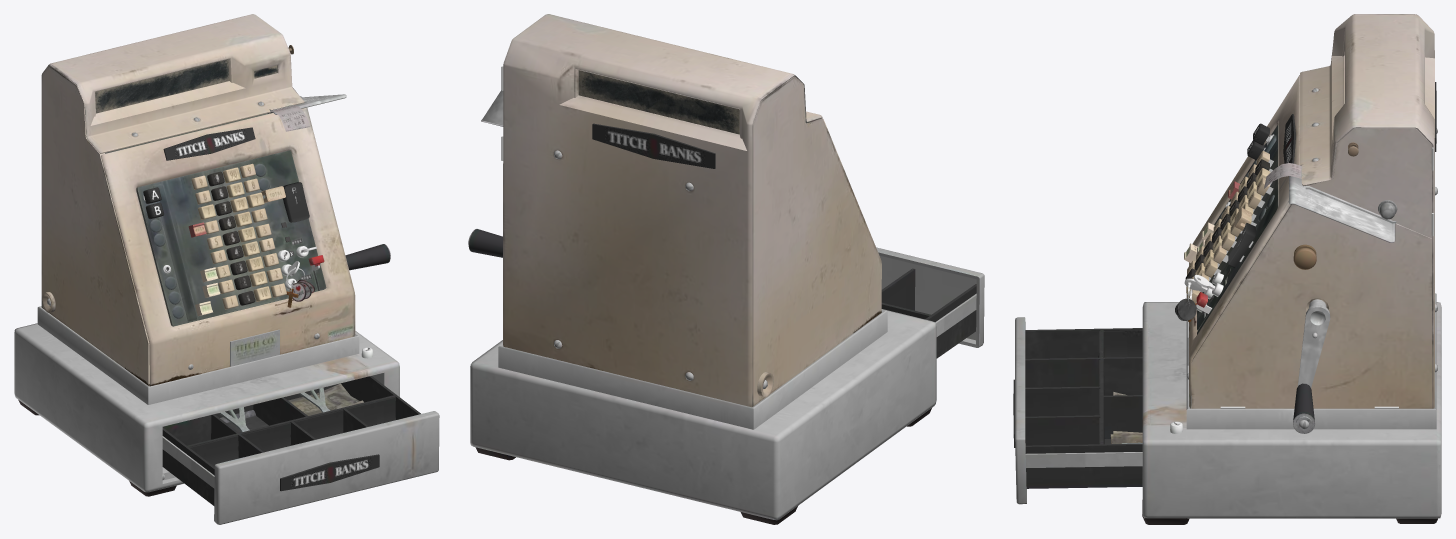
Rendered from CashRegister_01.glb.
The picture shows the model from 3 angles, left to right: view 1: azimuth 30°, elevation 25°; view 2: azimuth 150°, elevation 25°; view 3: azimuth 270°, elevation 25°; orthographic projection. The views are drawn at different scales.
Parts seen in each view (by area): view 1: CashRegister_01_body, CashRegister_011_drawer; view 2: CashRegister_01_body, CashRegister_011_drawer; view 3: CashRegister_01_body, CashRegister_011_drawer.
Part boxes in pixels (left/top/right/bottom): CashRegister_01_body: left=14, top=14, right=399, bottom=496; CashRegister_011_drawer: left=162, top=376, right=439, bottom=524; CashRegister_01_body: left=468, top=14, right=936, bottom=524; CashRegister_011_drawer: left=876, top=247, right=984, bottom=358; CashRegister_01_body: left=1142, top=14, right=1441, bottom=524; CashRegister_011_drawer: left=1013, top=317, right=1142, bottom=504.
Size of the model in its own units: 0.6005 by 0.6214 by 0.6242.
2 materials, 2 textured.
